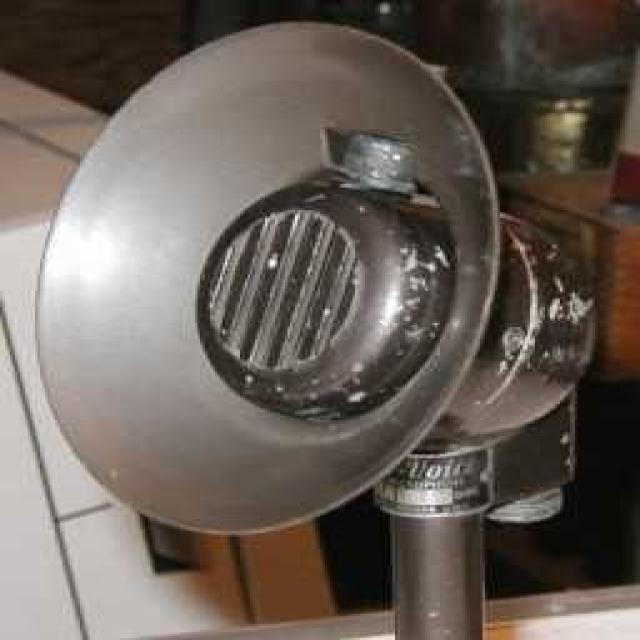microphone: (36, 38, 595, 633)
